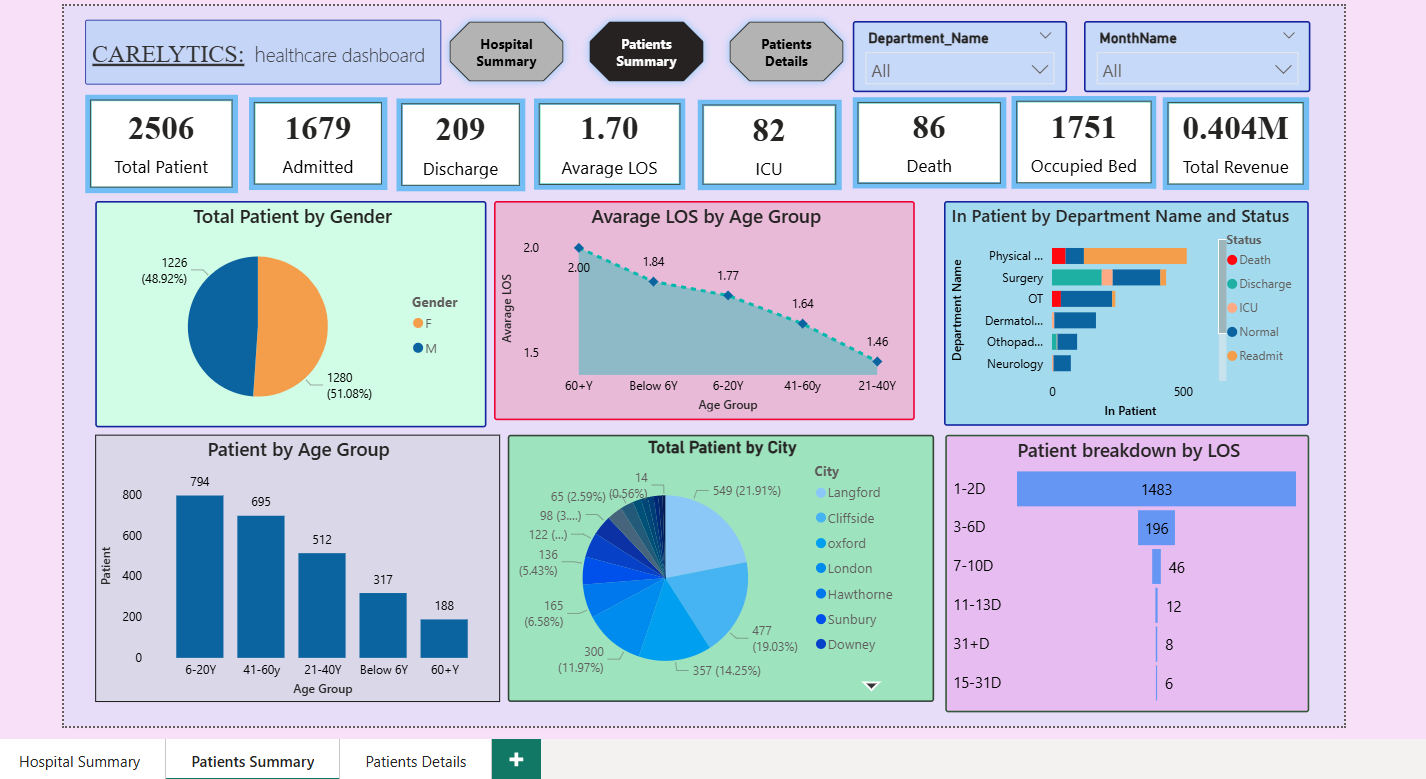

What the dashboard file says about the page in this screenshot:
{"tool":"powerbi","page":{"name":"Patients Summary ","canvas":[1280,720],"ordinal":1},"visuals":[{"type":"cardVisual","fields":{"Data":["Measure.Total Patient"]},"box":[21.2,86.2,132.5,93.8],"z":0},{"type":"textbox","box":[32.9,20.6,330.4,65.8],"z":1000},{"type":"slicer","fields":{"Values":["Department.Department_Name"]},"box":[769.2,15.1,213.9,71.3],"z":2000},{"type":"slicer","fields":{"Values":["Calendar_date.MonthName"]},"box":[992.6,15.1,253.6,71.3],"z":3000},{"type":"cardVisual","fields":{"Data":["Measure.In Patient"]},"box":[167.5,85.6,129.6,91.7],"z":4000},{"type":"cardVisual","fields":{"Data":["Measure.Total Discharge"]},"box":[319,86.8,117.4,91.7],"z":5000},{"type":"cardVisual","fields":{"Data":["Measure.Avarage LOS"]},"box":[456,84.3,151.6,90.5],"z":6000},{"type":"cardVisual","fields":{"Data":["Measure.ICU"]},"box":[613.7,84.3,155.2,90.5],"z":7000},{"type":"cardVisual","fields":{"Data":["Measure.Death"]},"box":[775,84.3,154,90.5],"z":8000},{"type":"cardVisual","fields":{"Data":["Measure.Occupied Bed"]},"box":[947.4,86.8,145.5,91.7],"z":9000},{"type":"cardVisual","fields":{"Data":["Measure.Total Revenue"]},"box":[1100.2,86.8,145.5,91.7],"z":10000},{"type":"donutChart","fields":{"Category":["Detail data dataset.Gender"],"Y":["Measure.Total Patient"]},"box":[20.8,191.9,407.1,228.6],"z":11000},{"type":"columnChart","fields":{"Y":["Measure.Total Patient"],"Category":["Detail data dataset.Age Bucket"]},"box":[31.4,420,407.1,275.7],"z":12000},{"type":"areaChart","fields":{"Y":["Measure.Avarage LOS"],"Category":["Detail data dataset.Age Bucket"]},"box":[427.8,178.5,420.5,218.8],"z":13000},{"type":"barChart","fields":{"Category":["Department.Department_Name"],"Y":["Measure.In Patient"],"Series":["Detail data dataset.Status"]},"box":[881.4,191.9,364.3,226.1],"z":14000},{"type":"funnel","title":"Patient breakdown by LOS","fields":{"Y":["Measure.Total Patient"],"Category":["Detail data dataset.Custom"]},"box":[897.2,429.1,364.3,277.5],"z":15000},{"type":"azureMap","fields":{"Size":["Measure.Total Patient"],"Category":["Detail data dataset.City"]},"box":[456,429.1,409.5,267.7],"z":16000},{"type":"pageNavigator","box":[363.1,20.8,402.2,55],"z":17000}]}

Visuals, with their boxes on the page's 1280x720 design canvas (x1, y1, x2, y2). These are canvas units, not pixel positions in the 1426x779 screenshot, which may show the page scaled, cropped or inside an application window:
cardVisual - Measure.Total Patient: <bbox>21, 86, 154, 180</bbox>
textbox: <bbox>33, 21, 363, 86</bbox>
slicer - Department.Department_Name: <bbox>769, 15, 983, 86</bbox>
slicer - Calendar_date.MonthName: <bbox>993, 15, 1246, 86</bbox>
cardVisual - Measure.In Patient: <bbox>168, 86, 297, 177</bbox>
cardVisual - Measure.Total Discharge: <bbox>319, 87, 436, 178</bbox>
cardVisual - Measure.Avarage LOS: <bbox>456, 84, 608, 175</bbox>
cardVisual - Measure.ICU: <bbox>614, 84, 769, 175</bbox>
cardVisual - Measure.Death: <bbox>775, 84, 929, 175</bbox>
cardVisual - Measure.Occupied Bed: <bbox>947, 87, 1093, 178</bbox>
cardVisual - Measure.Total Revenue: <bbox>1100, 87, 1246, 178</bbox>
donutChart - Detail data dataset.Gender x Measure.Total Patient: <bbox>21, 192, 428, 420</bbox>
columnChart - Measure.Total Patient x Detail data dataset.Age Bucket: <bbox>31, 420, 438, 696</bbox>
areaChart - Measure.Avarage LOS x Detail data dataset.Age Bucket: <bbox>428, 178, 848, 397</bbox>
barChart - Department.Department_Name x Measure.In Patient: <bbox>881, 192, 1246, 418</bbox>
"Patient breakdown by LOS" funnel: <bbox>897, 429, 1262, 707</bbox>
azureMap - Measure.Total Patient x Detail data dataset.City: <bbox>456, 429, 866, 697</bbox>
pageNavigator: <bbox>363, 21, 765, 76</bbox>
